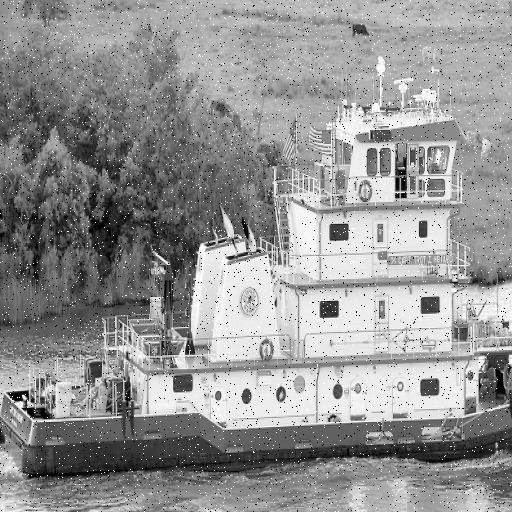tugboat: (1, 55, 512, 489)
